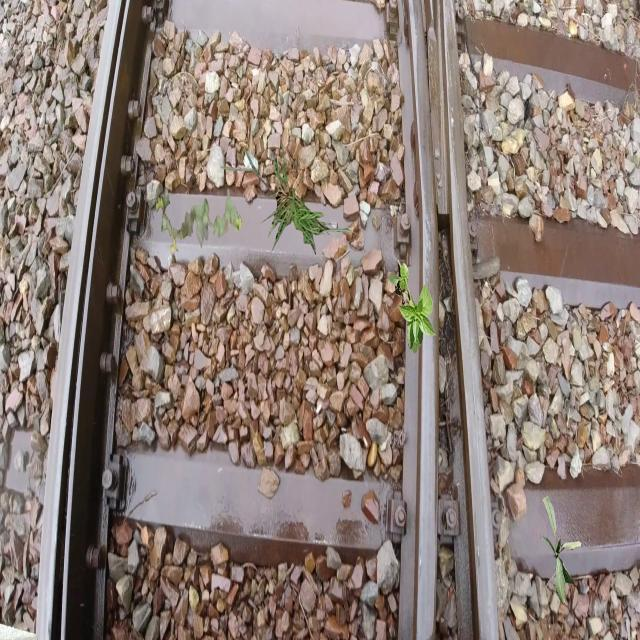Plant: (220, 136, 364, 255), (156, 187, 242, 256), (389, 260, 437, 355), (542, 495, 582, 605)
